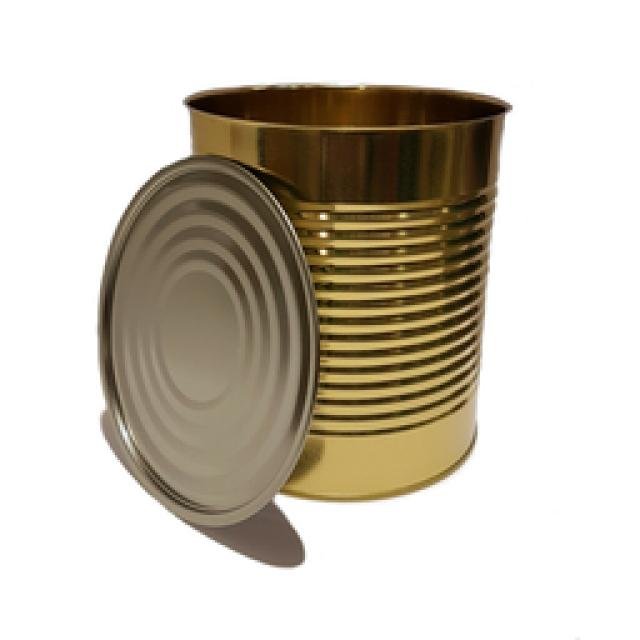alumunium: (98, 85, 508, 522)
